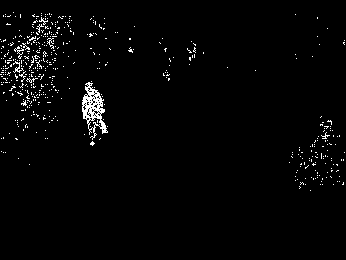person: (81, 81, 109, 145)
